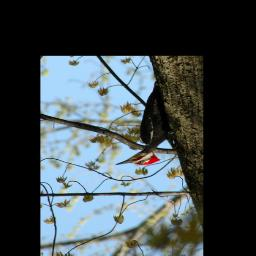Woodpecker: (112, 80, 175, 167)
